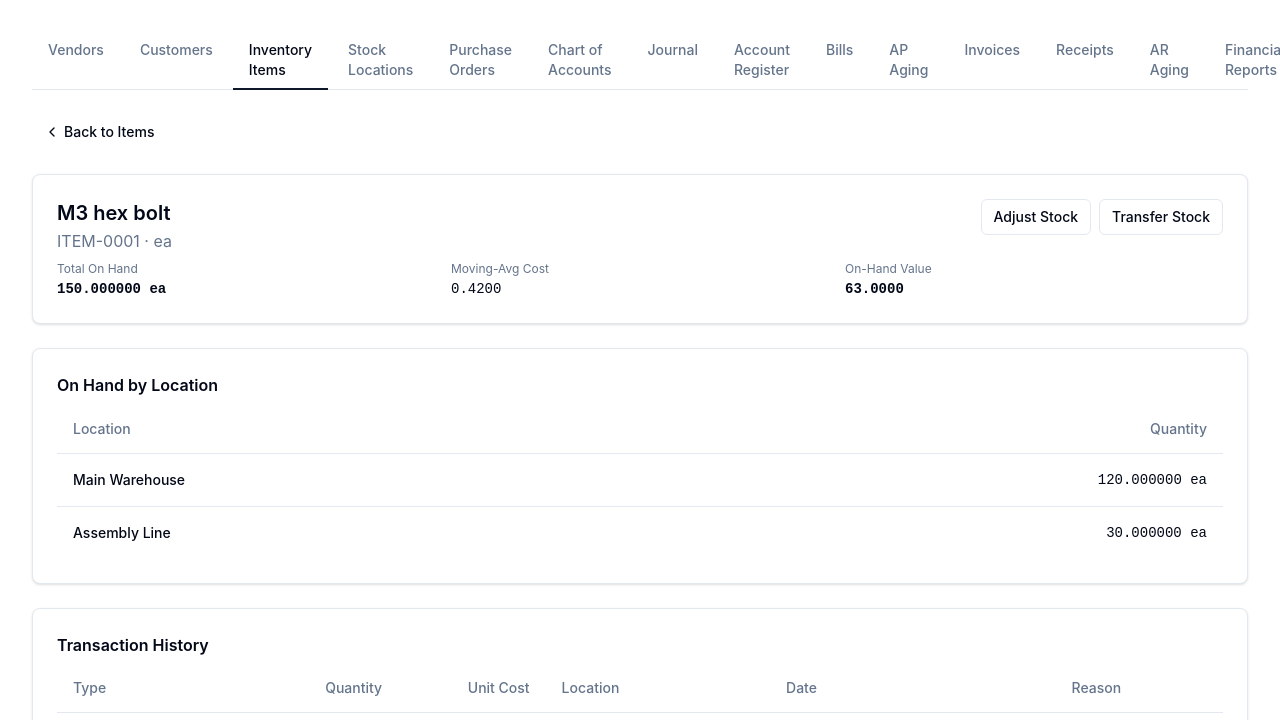
Test: InventoryItemDetail screen › opens the Adjust Stock and Transfer Stock dialogs from the action seams
Expected: the text "M3 hex bolt" is shown, [57, 199, 172, 227]
Step 1. Click the button "Adjust Stock" → x=1036, y=217, box [980, 199, 1091, 235]
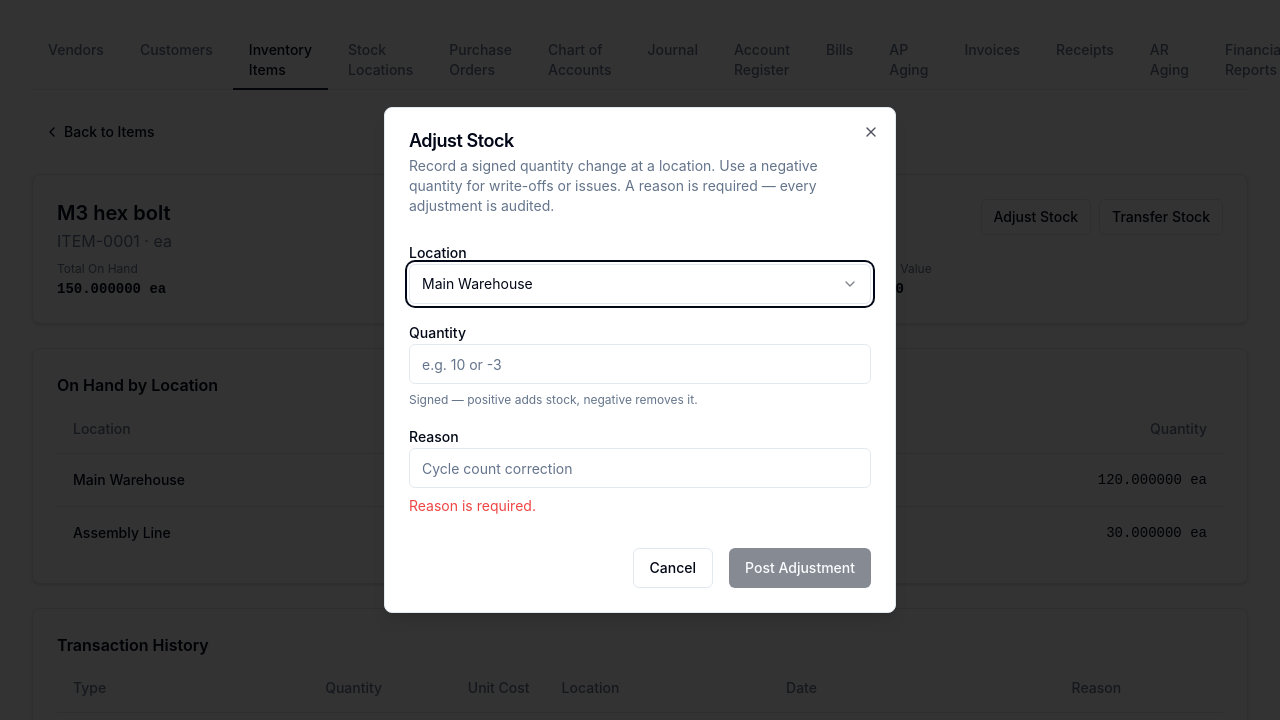
Expected: the heading "Adjust Stock" is shown, [409, 130, 514, 151]
// Close, then open the transfer dialog.
Step 2. Press Escape
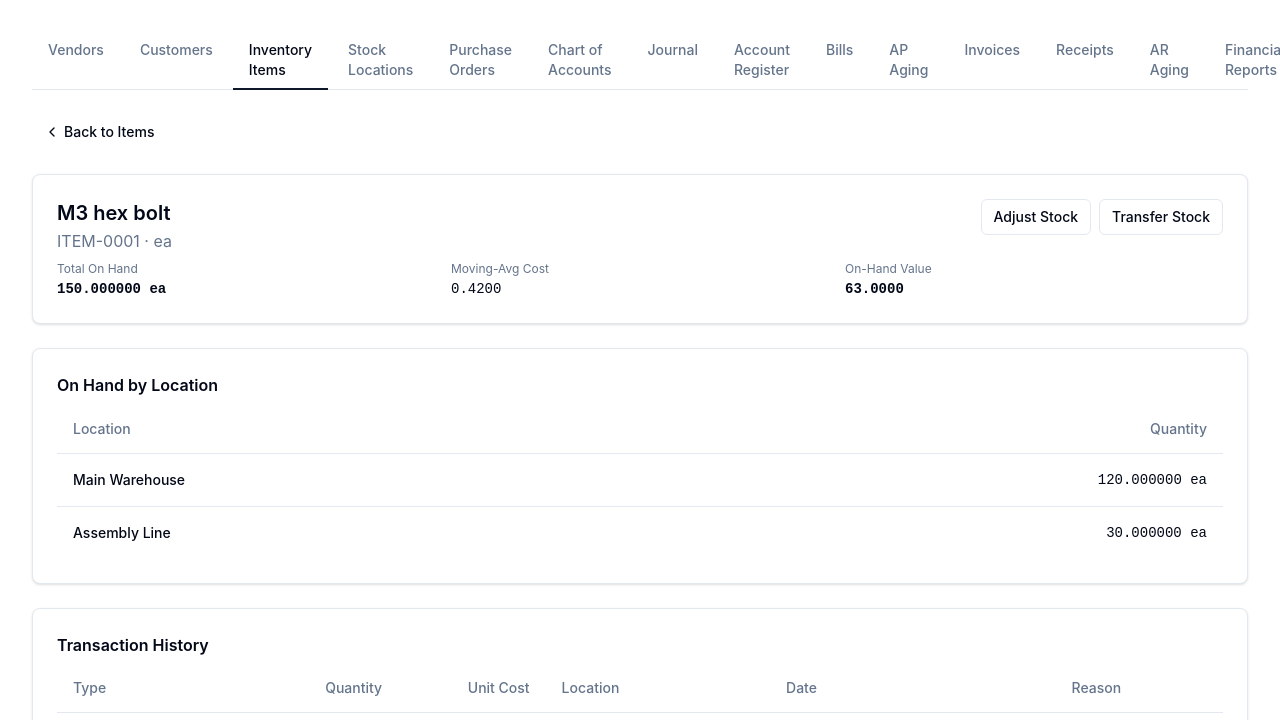
Step 3. Click the button "Transfer Stock" → x=1161, y=217, box [1099, 199, 1223, 235]
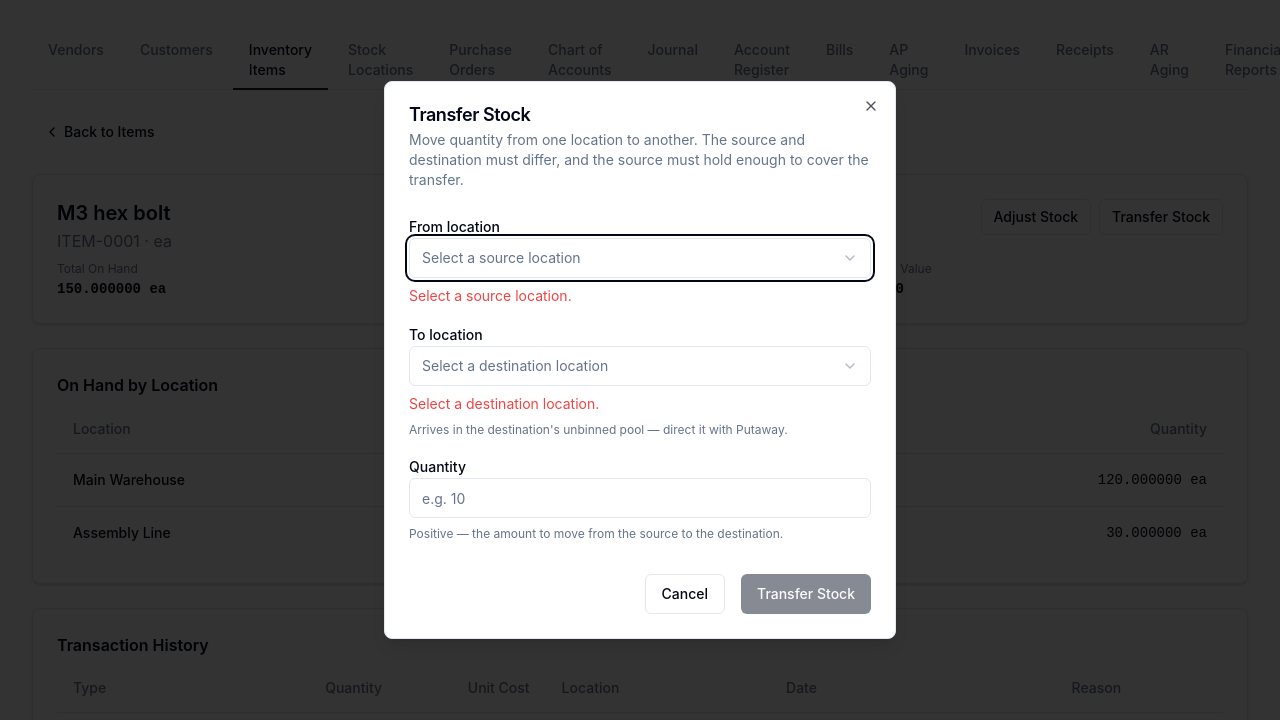
Expected: the heading "Transfer Stock" is shown, [409, 104, 530, 125]
